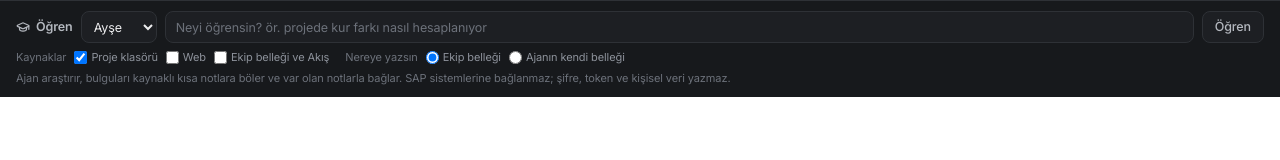
Test case: Öğren kutusu › web seçeneği yalnız web aracı olan motorda; yoksa gizli ve ipucunda nedeni
expect the checkbox labelled "Web" is shown: met, box [166,51,179,64]
Select "Kodcu" in the dropdown named "Öğrenecek ajan" at (119, 27), box [81,11,157,43]
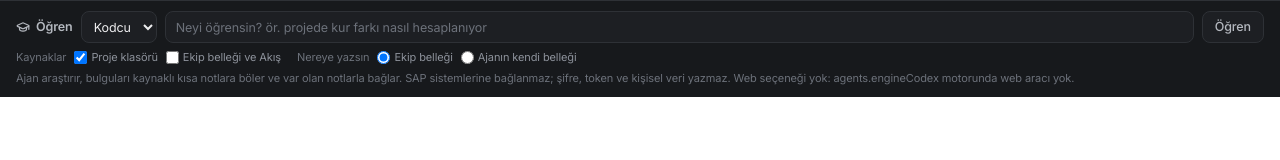
expect the checkbox labelled "Web" is not shown: met
expect the text "Codex motorunda web aracı yok" is shown: met, box [730,70,1074,84]
